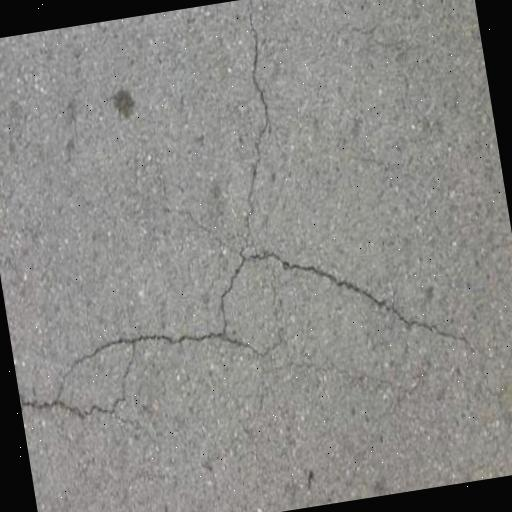spalling: (25, 228, 474, 427), (225, 21, 289, 249)
